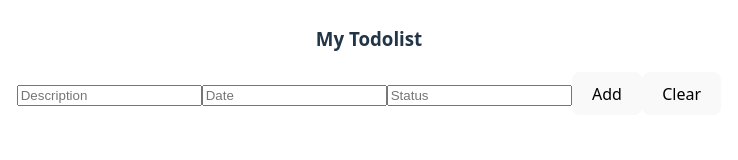
Scenario: App › adds todos to the table and clears the inputs
In the field with placeholder "Description": (109, 95) [17,85,202,106], type "Buy milk"
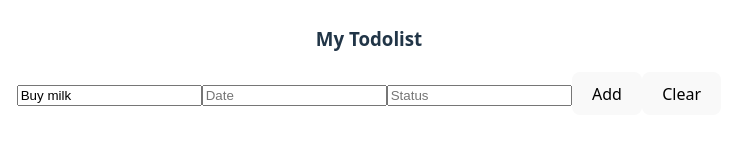
In the field with placeholder "Date": (294, 95) [202,85,387,106], type "2024-12-01"
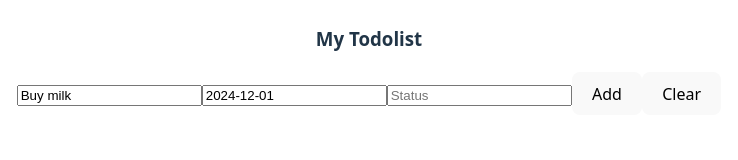
In the field with placeholder "Status": (479, 95) [387,85,572,106], type "open"
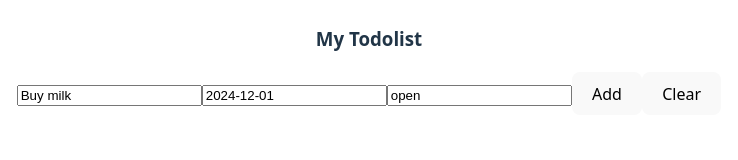
Click the button "Add": (607, 94) [572,72,642,115]
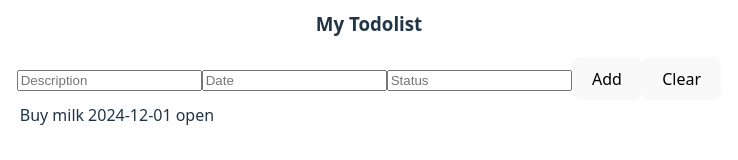
expect the text "Buy milk" is shown: met, box [19,102,85,128]
expect the text "2024-12-01" is shown: met, box [87,102,173,128]
expect the text "open" is shown: met, box [175,102,215,128]
Click the button "Clear": (682, 79) [642,57,721,100]
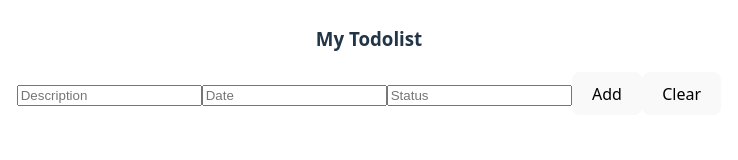
expect the text "Buy milk" is gone: met
